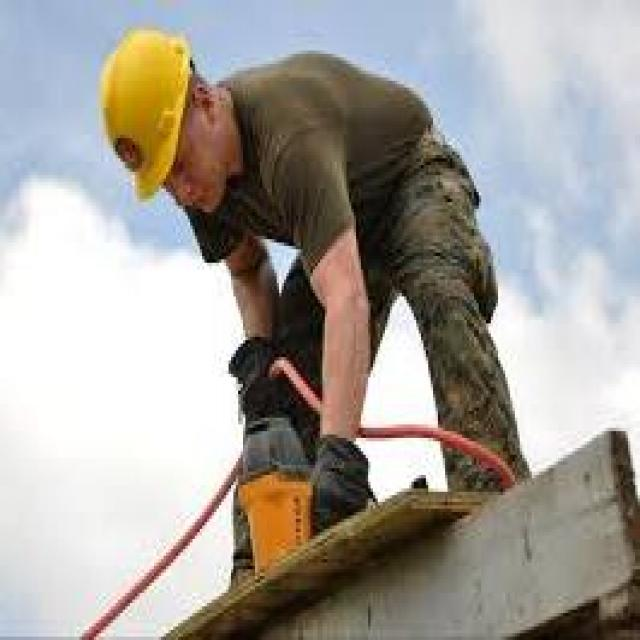Safety-Helmet: (89, 17, 202, 205)
